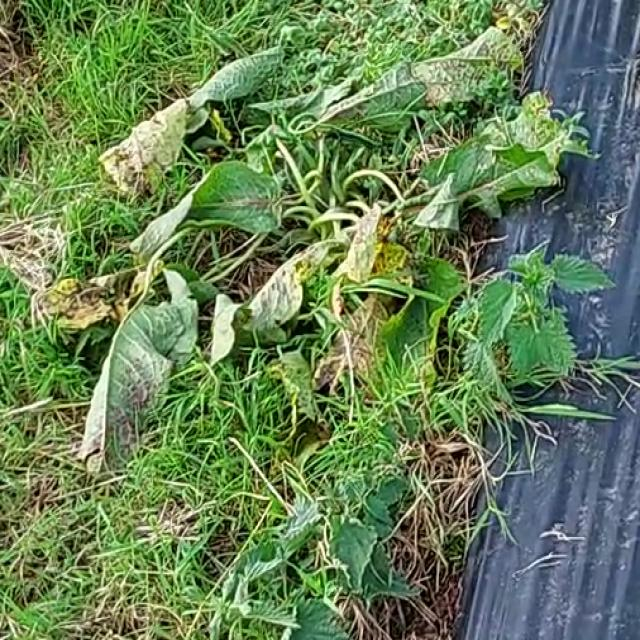organic waste: (74, 28, 580, 470)
